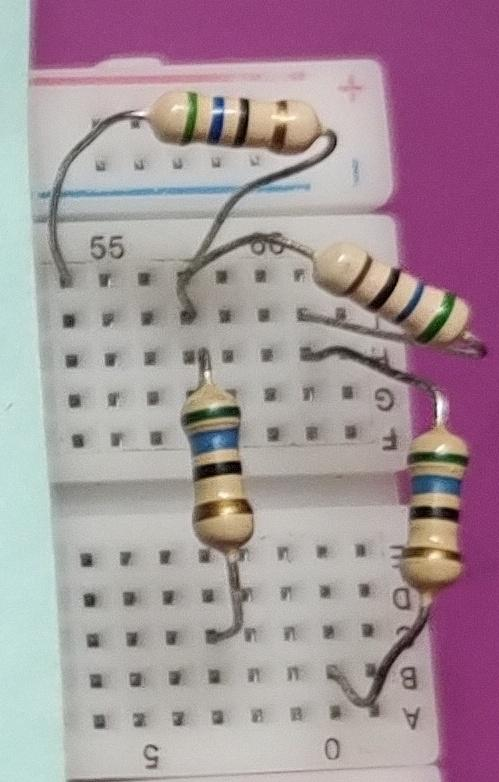resistor: (162, 377, 286, 582), (120, 64, 333, 183), (304, 224, 480, 362), (392, 414, 485, 611)
